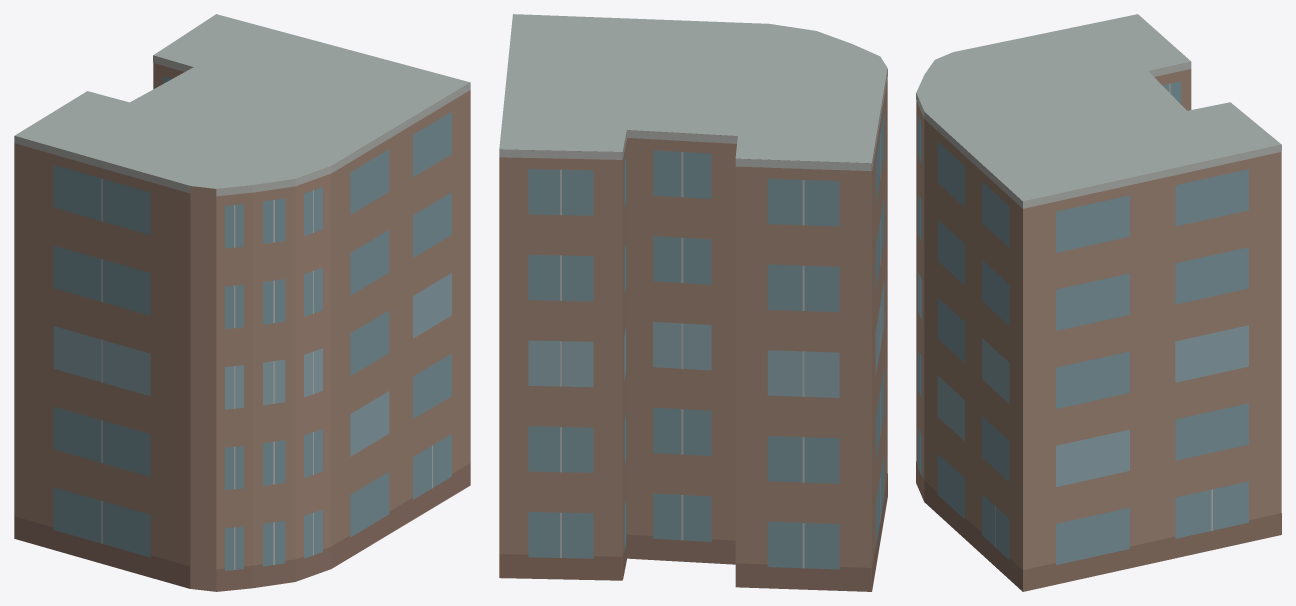
Rendered from survey-upis-32951504.glb.
3 views of the same model, side by side, from view 1: azimuth 30°, elevation 25°; view 2: azimuth 150°, elevation 25°; view 3: azimuth 270°, elevation 25° (orthographic). The views are drawn at different scales.
Visible parts, largest first — view 1: survey-upis-32951504.tmp; view 2: survey-upis-32951504.tmp; view 3: survey-upis-32951504.tmp.
Boxes of the visible parts, left/top/right/bottom form: survey-upis-32951504.tmp: left=14, top=14, right=470, bottom=591; survey-upis-32951504.tmp: left=499, top=14, right=887, bottom=591; survey-upis-32951504.tmp: left=916, top=14, right=1281, bottom=591.
Size of the model in its own units: 13.51 by 13.1 by 11.13.
